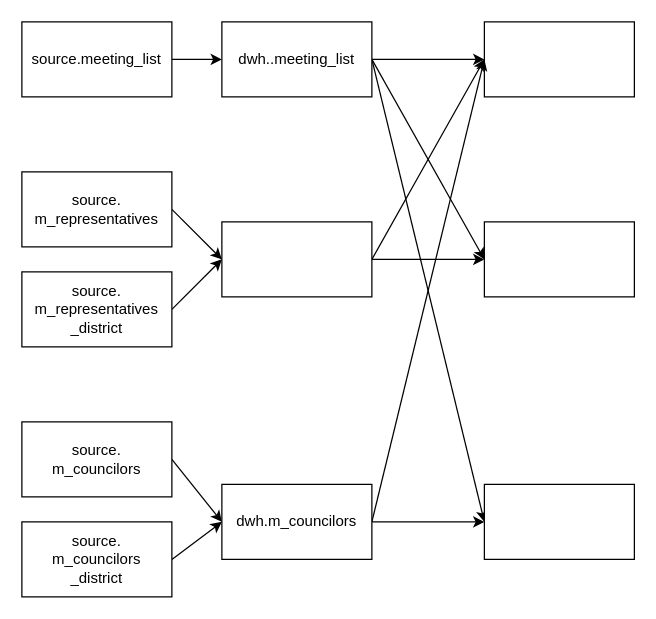
This 656x619 diagram has some shape labels left out. Here are the shapes that lost their labels. From the top down, the centre of each, then its label:
(558,59): mart.meeting_list
(296,259): dwh. m_representatives
(558,259): mart. m_representatives _aggregated
(558,521): mart. m_councilors _aggregated
